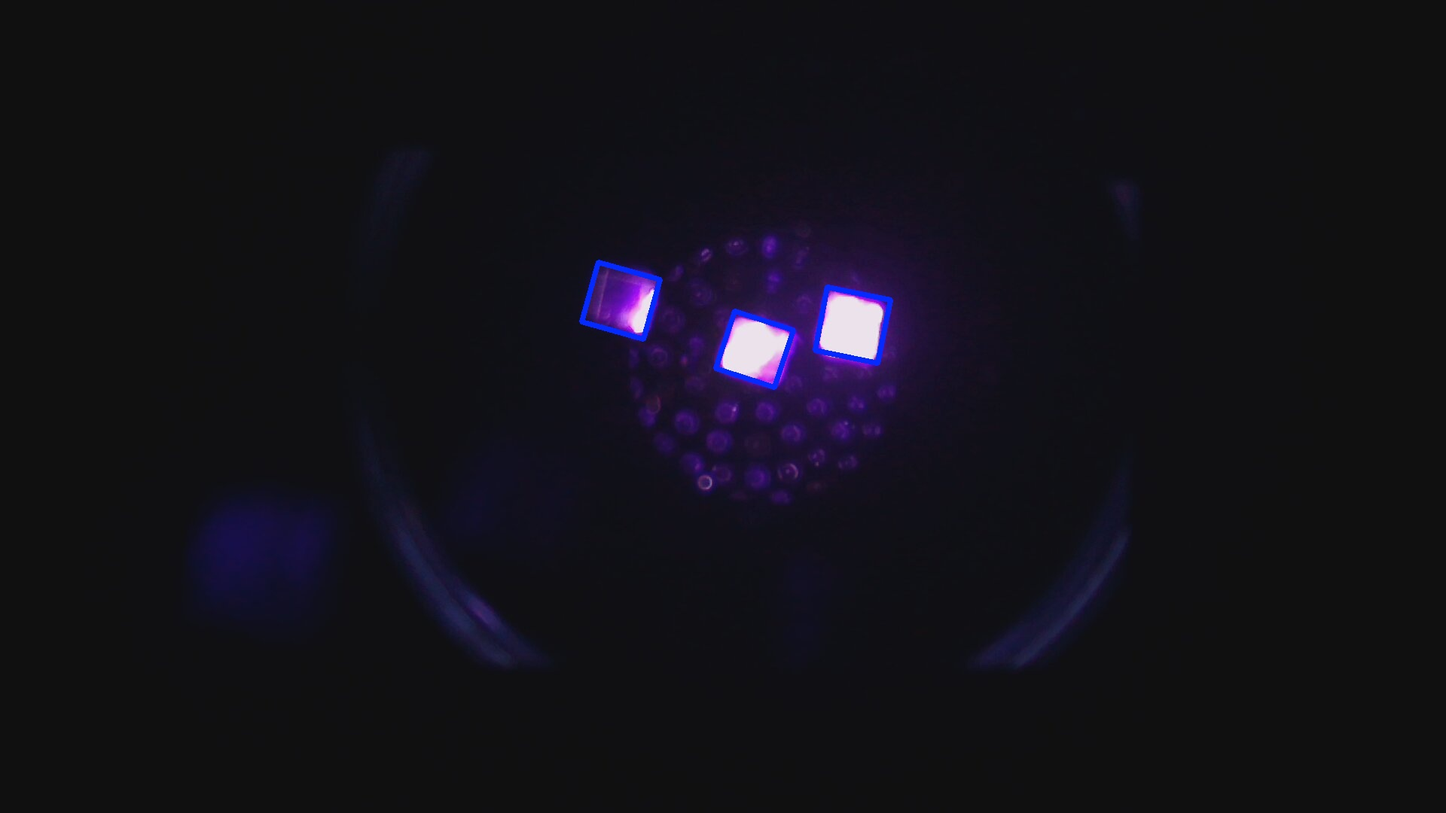plastic: (582, 262, 662, 340), (814, 286, 892, 364), (718, 311, 793, 386)
